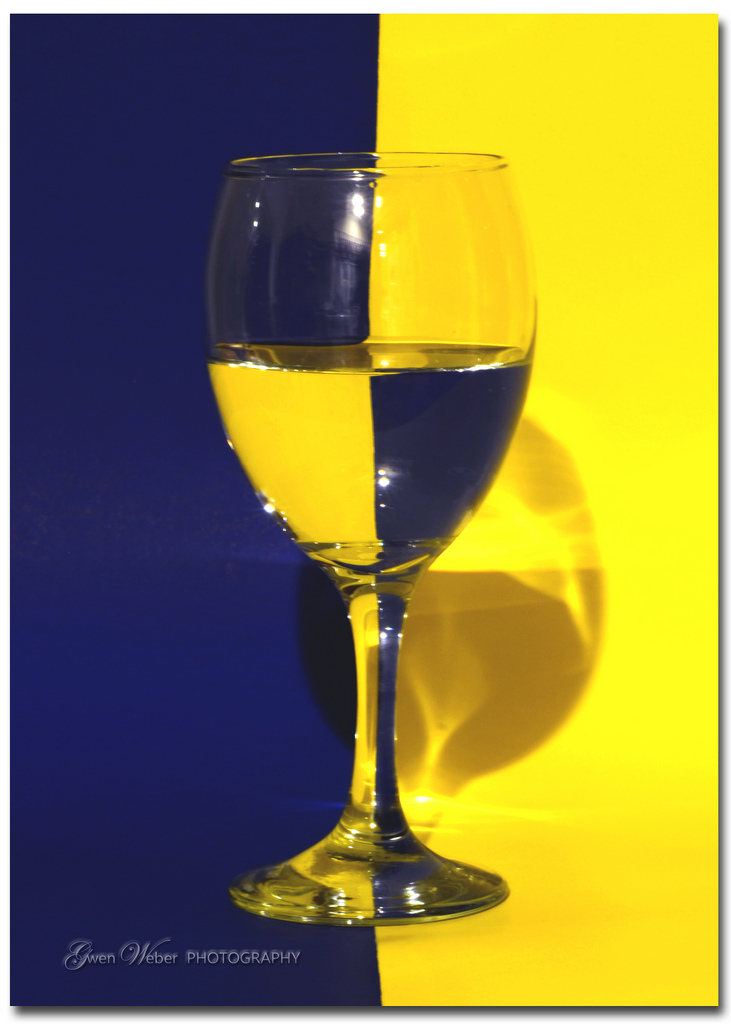glass of water: (203, 149, 546, 930)
